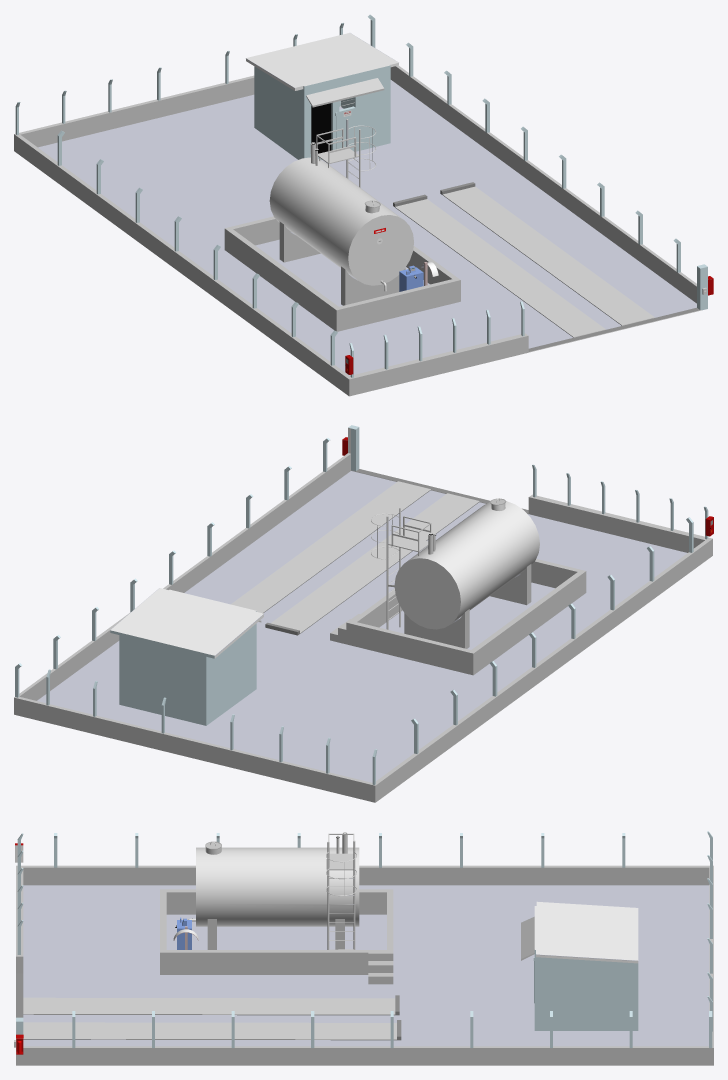
File: Bomba.gltf
3 renders of one model, top to bottom at view 1: azimuth 30°, elevation 25°; view 2: azimuth 150°, elevation 25°; view 3: azimuth 270°, elevation 25°, orthographic. The views are drawn at different scales.
Parts seen in each view (by area): view 1: node4, node2, node10, node1, node8, node12, node7, node5; view 2: node4, node2, node1, node10, node8, node12, node7; view 3: node4, node2, node10, node8, node1, node12, node7.
Boxes of the visible parts, box(x1,y1,x2,y2) form: node4: box(38, 33, 696, 375); node2: box(14, 65, 696, 396); node10: box(310, 119, 706, 336); node1: box(15, 14, 707, 377); node8: box(269, 157, 413, 291); node12: box(246, 33, 438, 276); node7: box(346, 182, 699, 363); node5: box(311, 103, 416, 365); node4: box(37, 471, 687, 782); node2: box(14, 453, 712, 802); node1: box(15, 425, 708, 784); node10: box(231, 481, 479, 633); node8: box(394, 501, 539, 629); node12: box(110, 588, 263, 658); node7: box(263, 469, 712, 635); node4: box(23, 878, 709, 1046); node2: box(16, 842, 713, 1065); node10: box(14, 832, 534, 1047); node8: box(188, 847, 359, 926); node1: box(16, 831, 712, 1047); node12: box(173, 901, 638, 963); node7: box(16, 973, 401, 1040).
Bounding box in the file's own units: 13.07 × 4.06 × 20.82.
